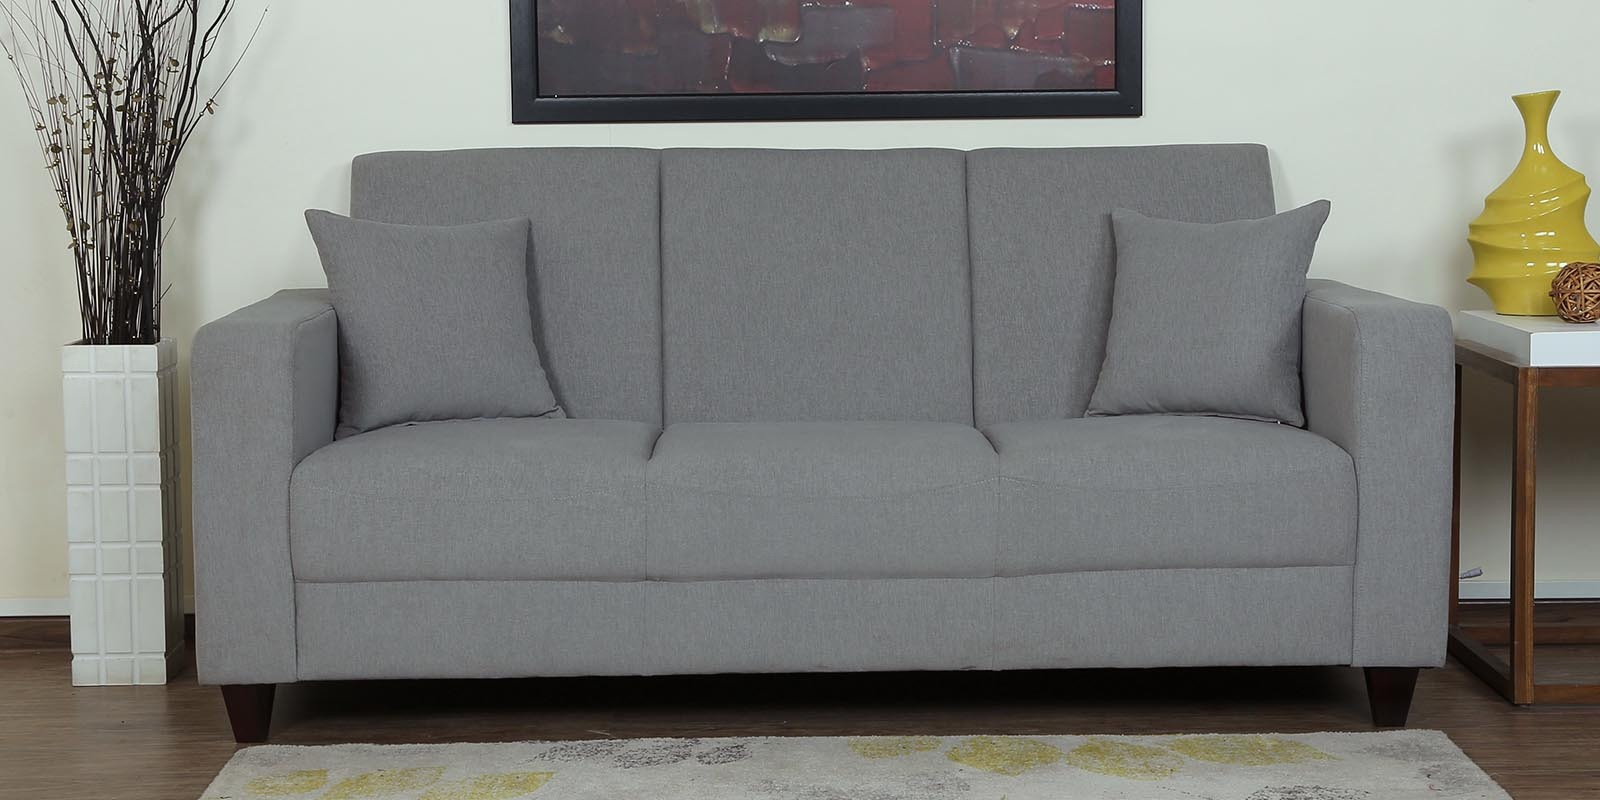Alba Three Seater Sofa in Ash Grey Colour by CasaCraft: (178, 139, 1458, 745)
